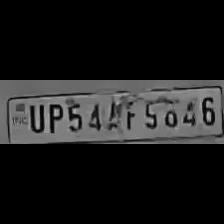4: (86, 97, 104, 131), (179, 95, 197, 127)
5: (141, 93, 159, 129), (64, 100, 84, 132)
6: (198, 93, 216, 126)
F: (121, 94, 136, 132)
P: (46, 100, 62, 134)
U: (26, 101, 44, 133)
